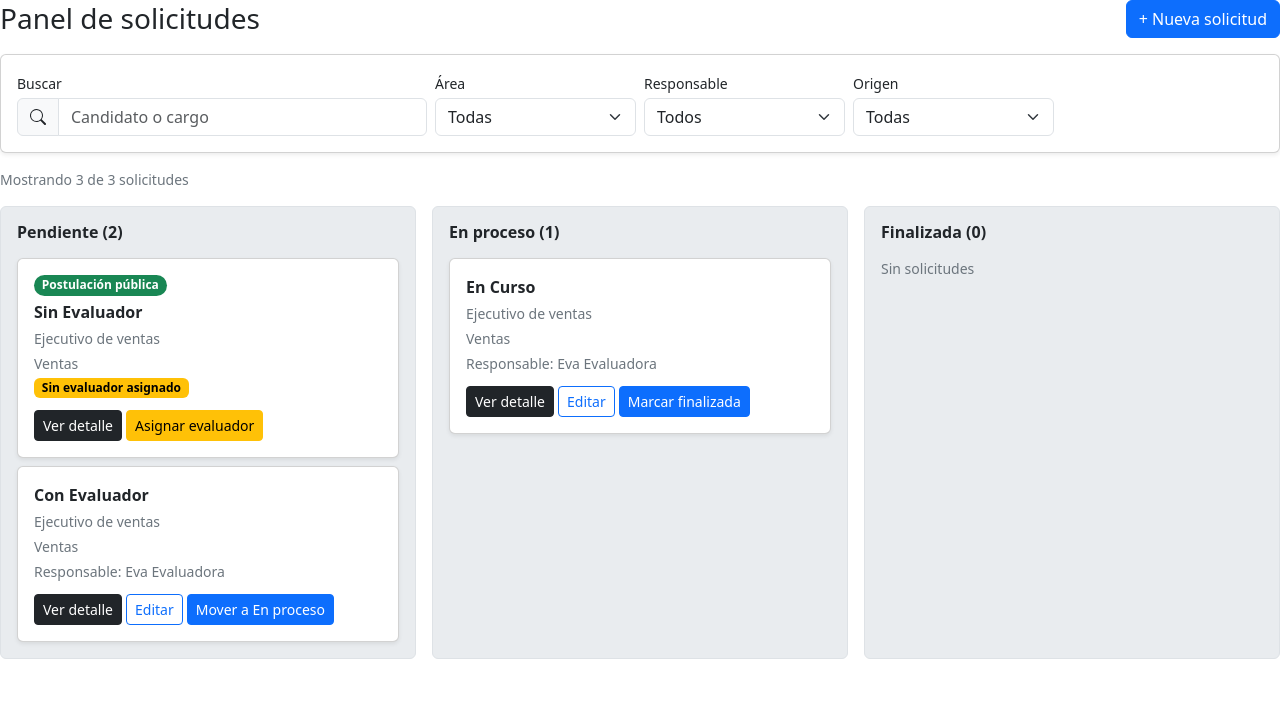
Test: Panel (Kanban) › si el backend rechaza el cambio de estado, muestra el error y la tarjeta no se mueve
This screenshot has width=1280, height=720.
Expected: the heading "Panel de solicitudes" is shown, [0,2,260,36]
Click the button "Mover a En proceso" at (260, 609), box [187,594,334,625]
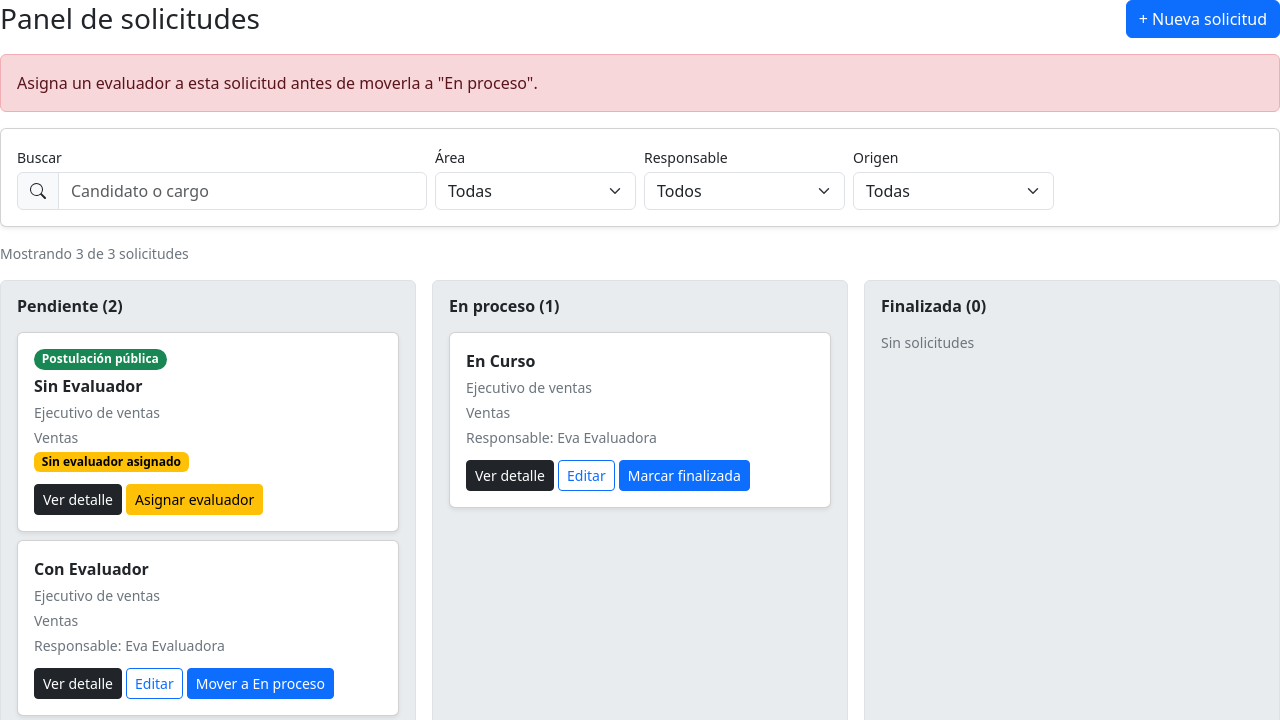
Expected: the text "Asigna un evaluador a esta solicitud antes de moverla a \"En proceso\"." is shown, [0,54,1279,112]
